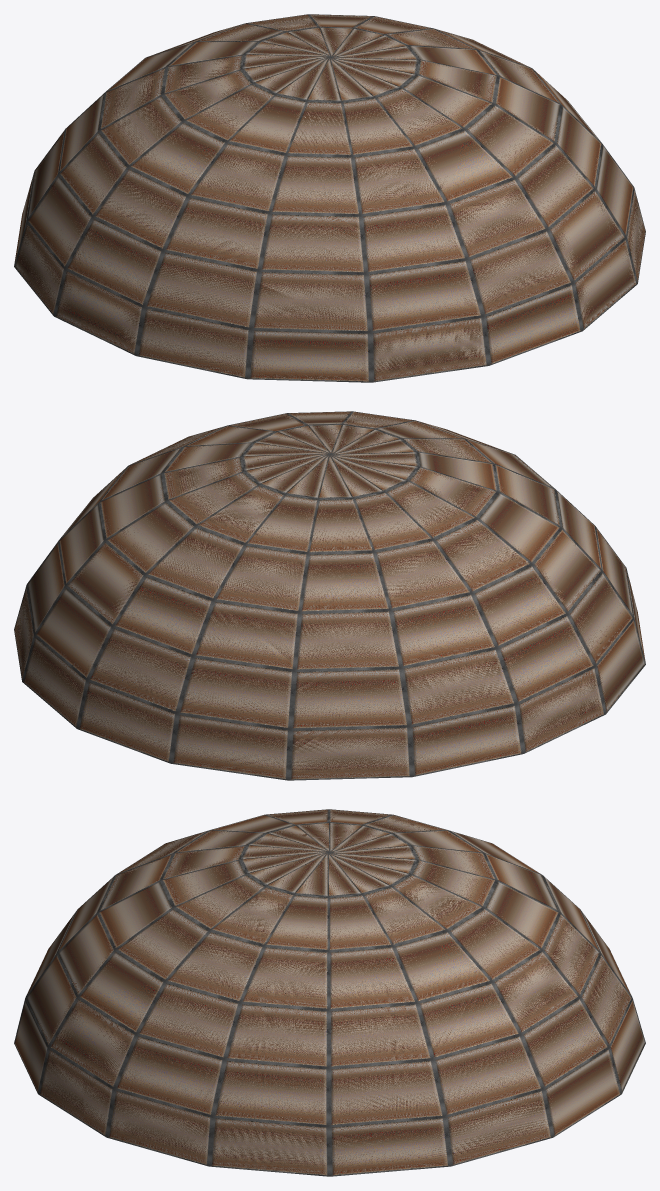
The model's file is BioDome.fbx.
The picture shows the model from 3 angles, top to bottom: view 1: azimuth 30°, elevation 25°; view 2: azimuth 150°, elevation 25°; view 3: azimuth 270°, elevation 25°; orthographic projection.
Parts seen in each view (by area): view 1: BioDome; view 2: BioDome; view 3: BioDome.
Boxes of the visible parts, x1,y1,x2,y2 form: BioDome: (14, 14, 645, 382); BioDome: (14, 411, 645, 780); BioDome: (14, 809, 645, 1176).
Size of the model in its own units: 801 by 267 by 801.
